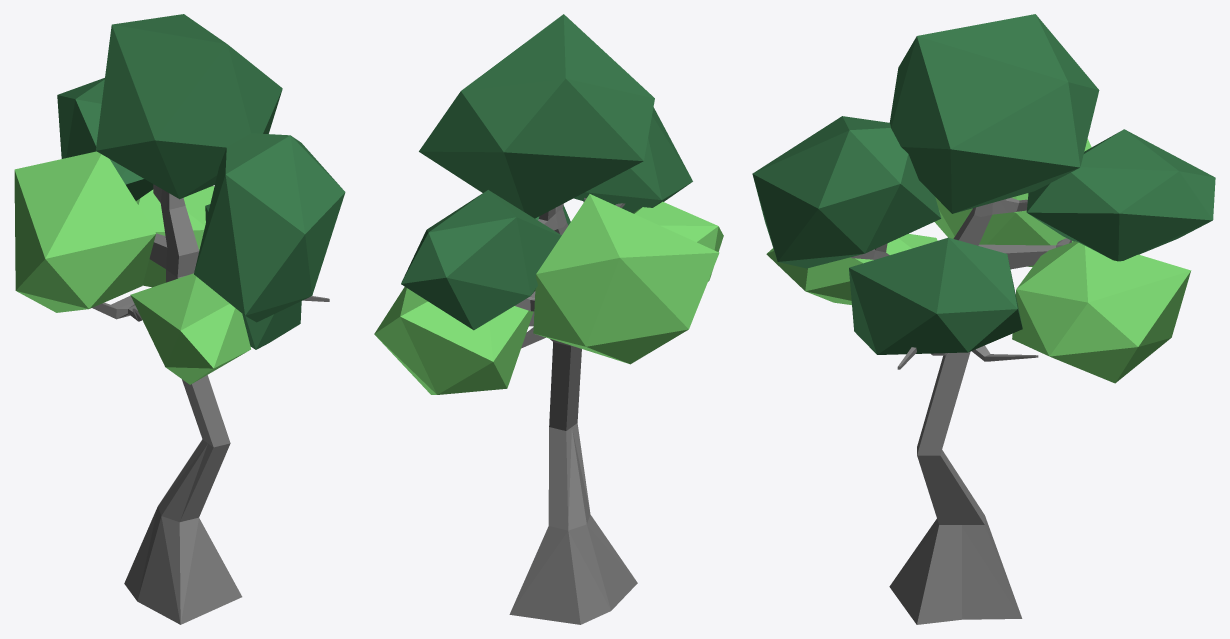
Rendered from Broad_leaved_trees_C.fbx.
3 renders of one model, left to right at view 1: azimuth 30°, elevation 25°; view 2: azimuth 150°, elevation 25°; view 3: azimuth 270°, elevation 25°, orthographic. The views are drawn at different scales.
Visible parts, largest first — view 1: Broad_leaved_trees_C; view 2: Broad_leaved_trees_C; view 3: Broad_leaved_trees_C.
Part boxes in pixels (x1,y1,x2,y2): Broad_leaved_trees_C: [14, 14, 345, 624]; Broad_leaved_trees_C: [374, 14, 723, 624]; Broad_leaved_trees_C: [752, 14, 1215, 624].
Bounding box in the file's own units: 126 × 256 × 185.
